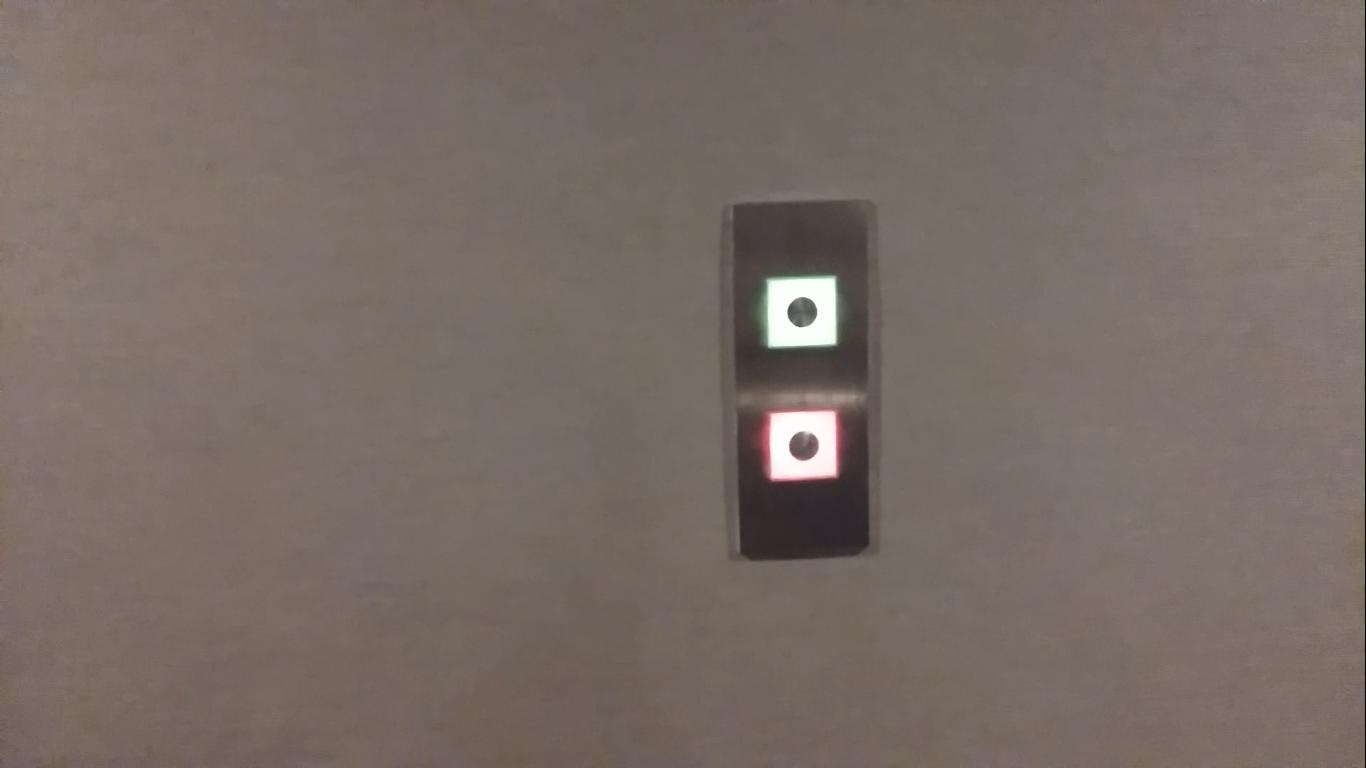empty: (756, 268, 842, 353), (764, 408, 843, 484)
